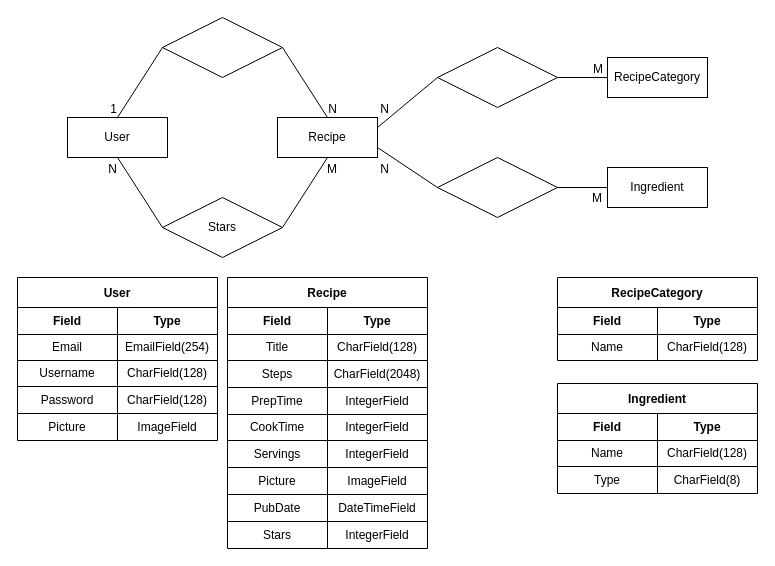
This 775x566 diagram has some shape labels left out. Each missing label, with the centre of its shape:
"Creates" goes at (222,47).
"FallsUnder" goes at (497,77).
"Requires" goes at (497,187).
